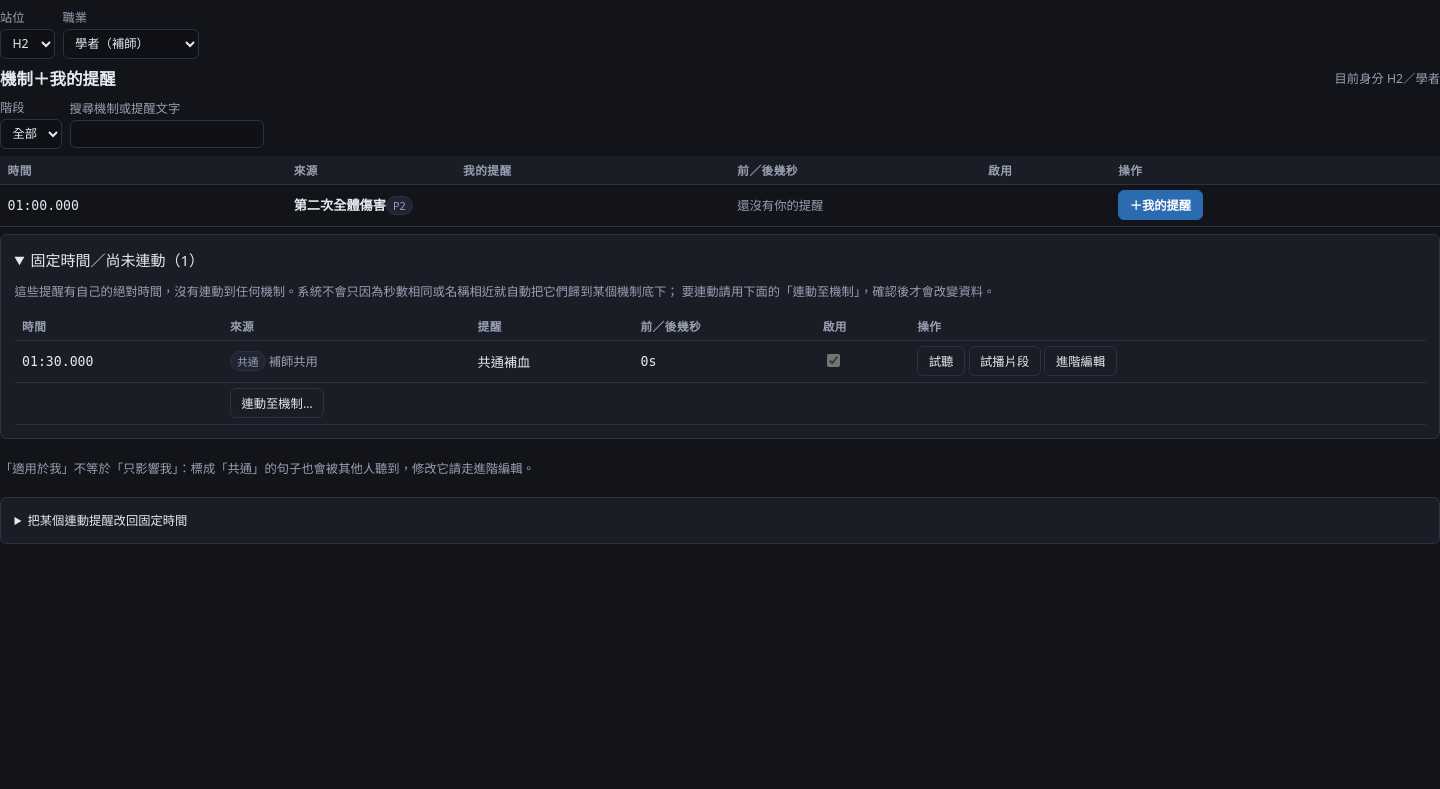
C. 從機制列表快速追加 › 快捷選項與「當下」都會更新觸發時間，當下停用秒數輸入
This screenshot has width=1440, height=789.
Click the button "＋我的提醒": [1160, 205] box [1118, 190, 1203, 220]
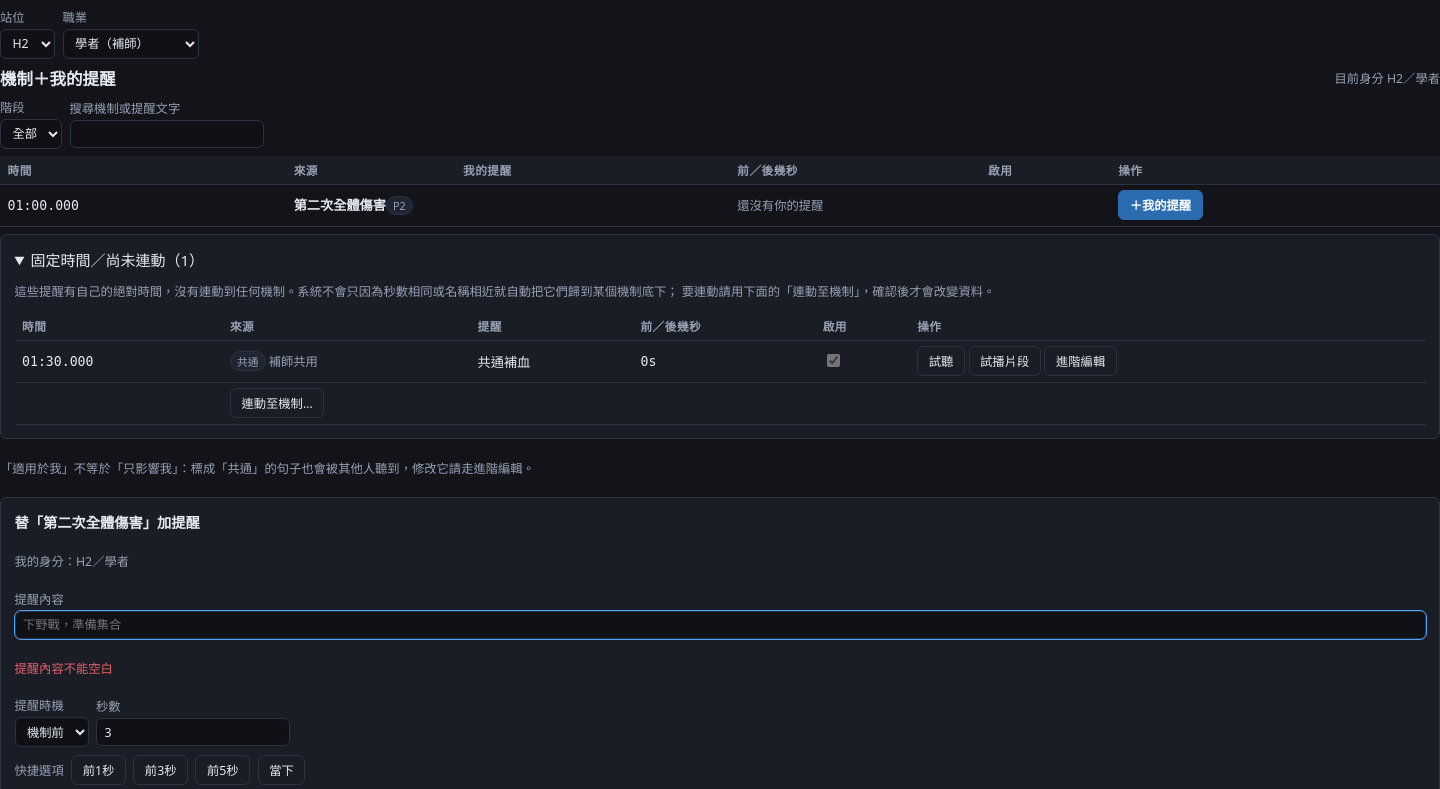
Click the button "前5秒": [223, 770] box [196, 755, 250, 785]
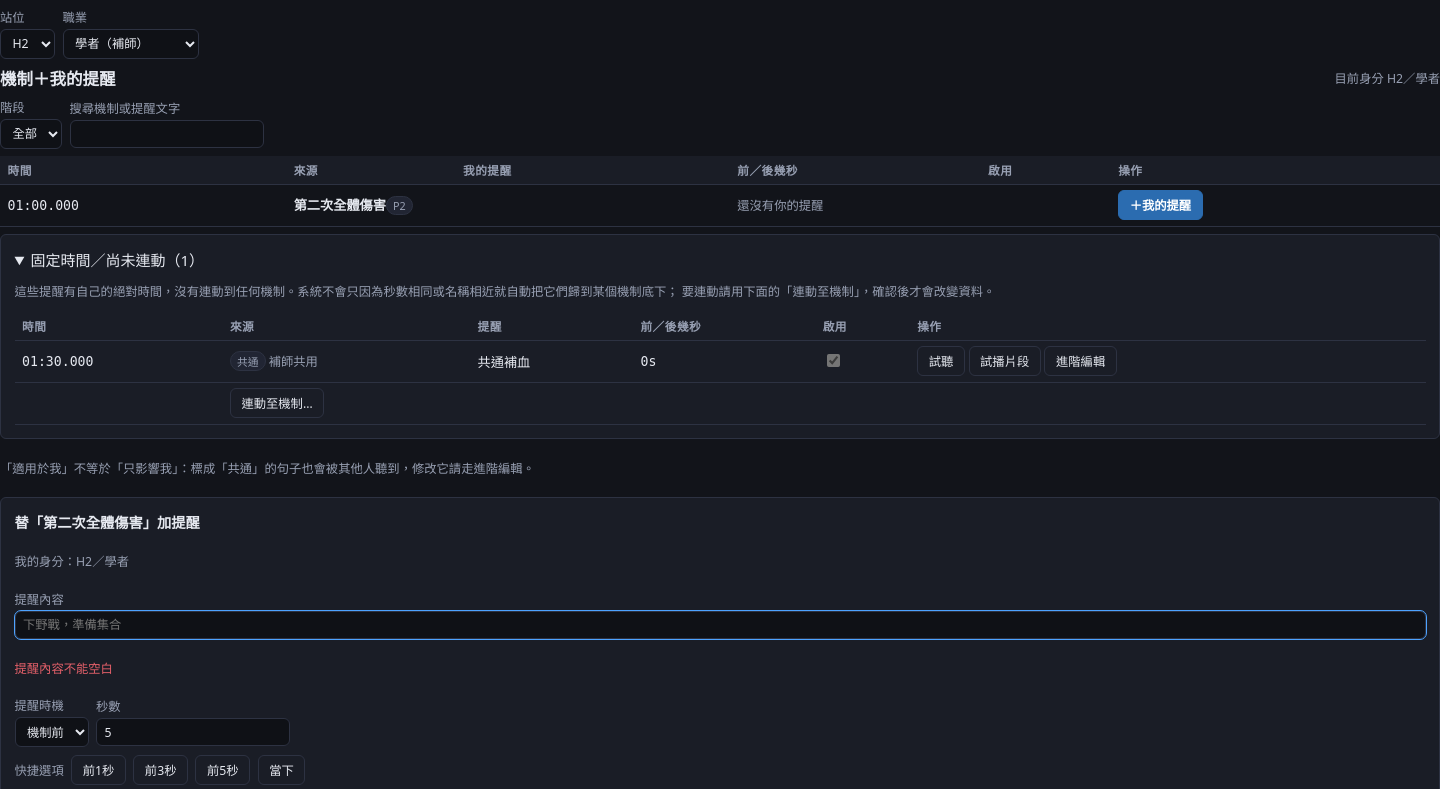
Click the button "當下": [281, 770] box [258, 755, 305, 785]
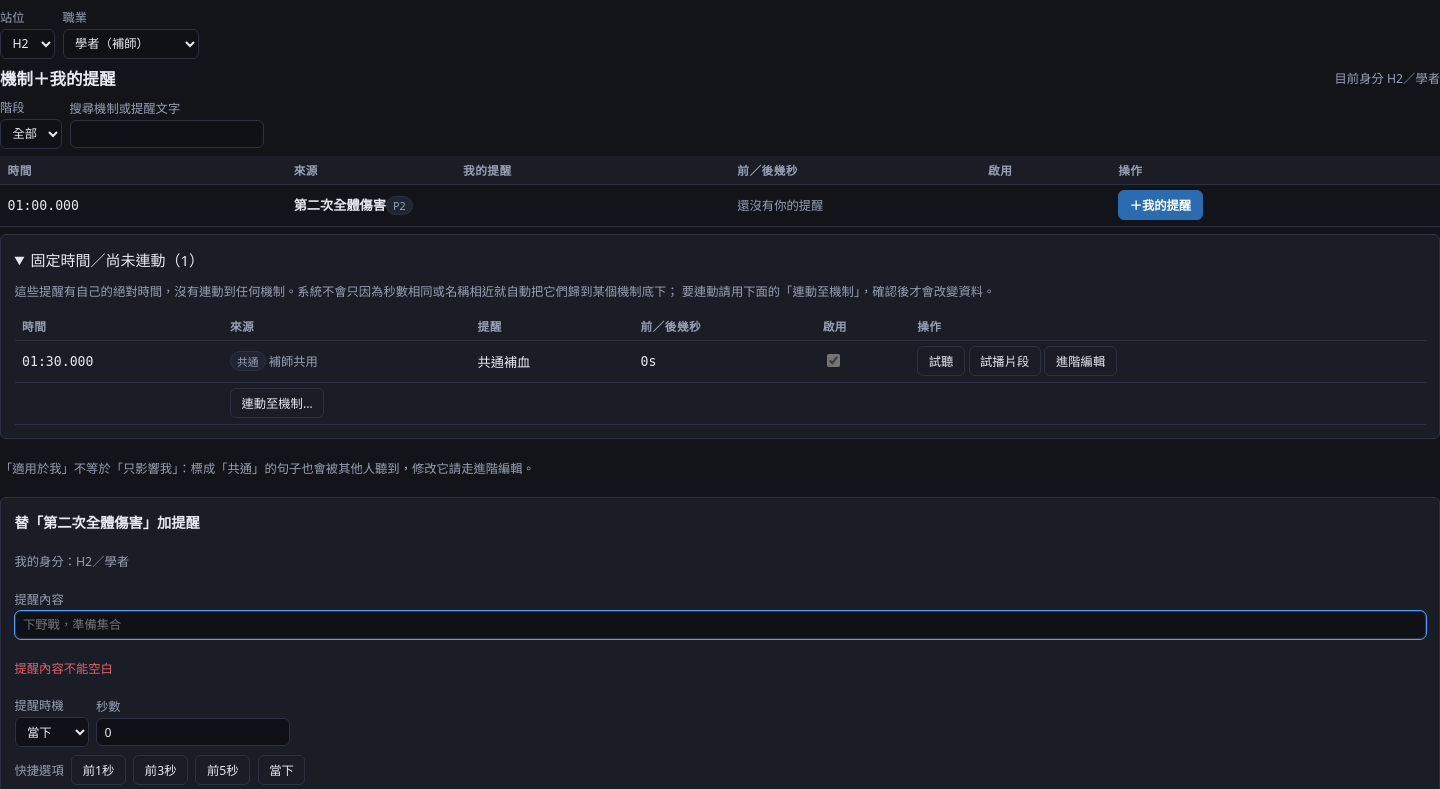
Now the number field labelled "秒數" is disabled, box [96, 718, 290, 746]
Select "機制後" in the dropdown labelled "提醒時機": [52, 732] box [14, 717, 88, 747]
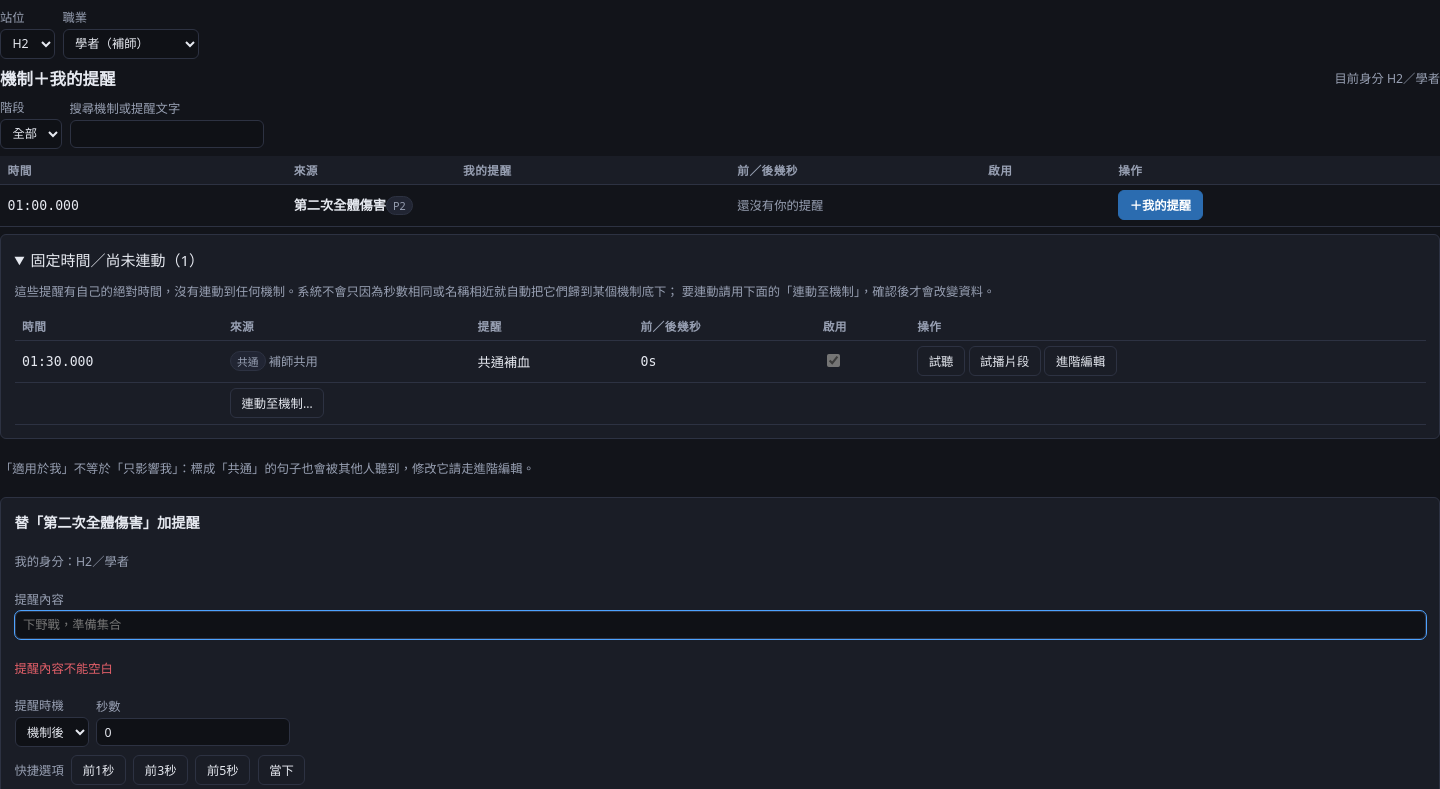
Replace the text in the number field labelled "秒數" with "2.5": [193, 732] box [96, 718, 290, 746]
(page scrolled)
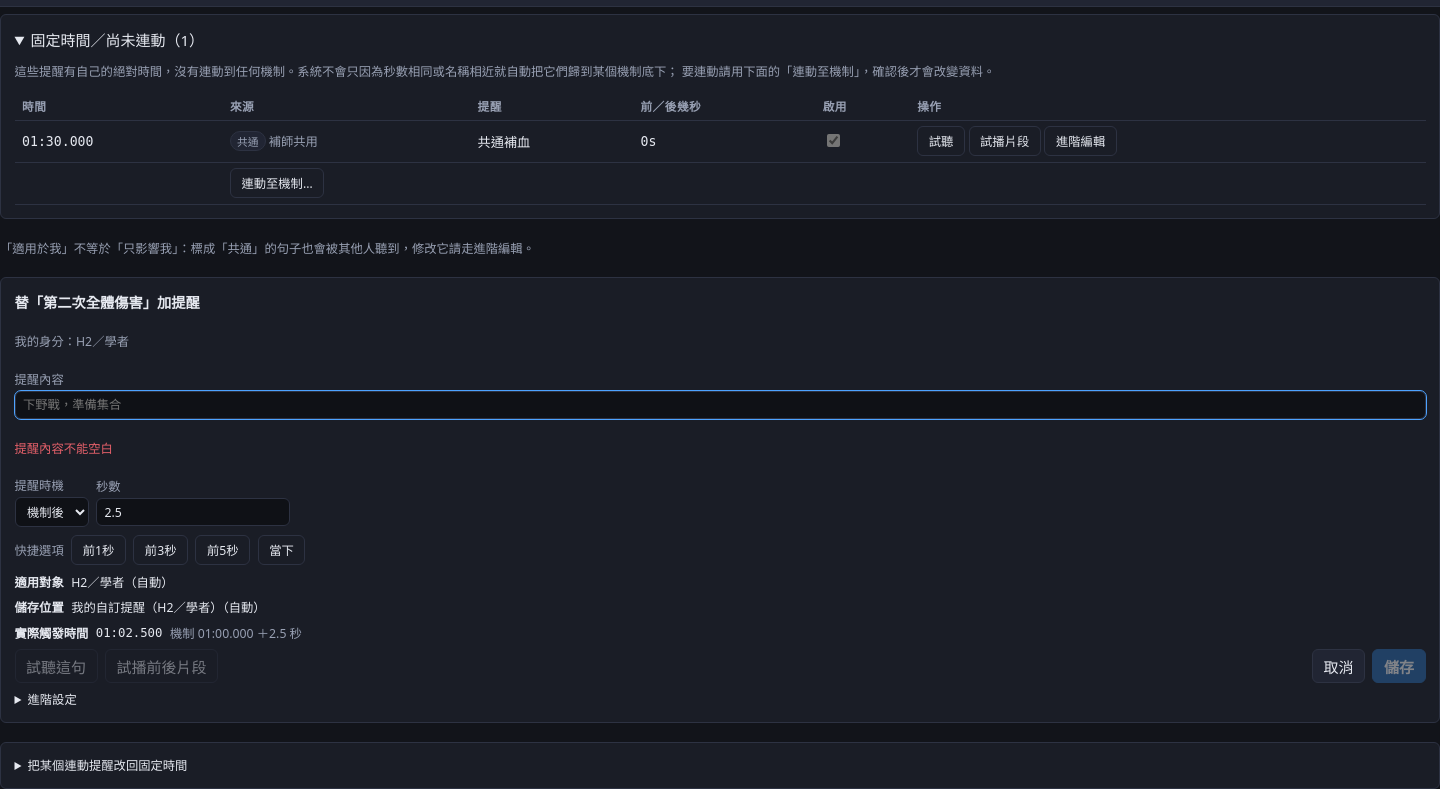
Now the text with test id "quick-reminder-trigger" reads "01:02.500", box [96, 626, 162, 640]
